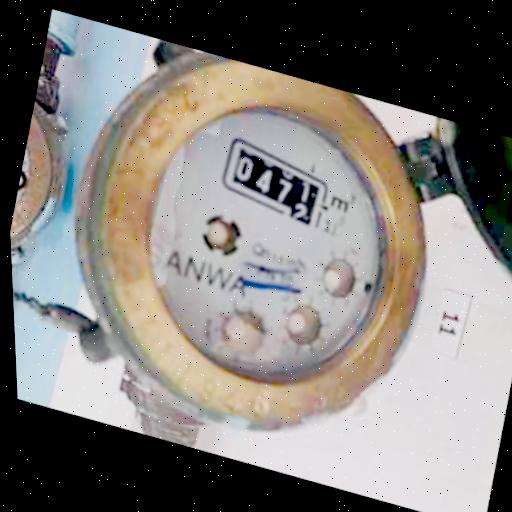0: (229, 147, 261, 191)
1: (286, 176, 322, 227)
4: (247, 156, 282, 201)
7: (268, 166, 302, 210)
border_water_meter_number: (209, 133, 342, 234)
